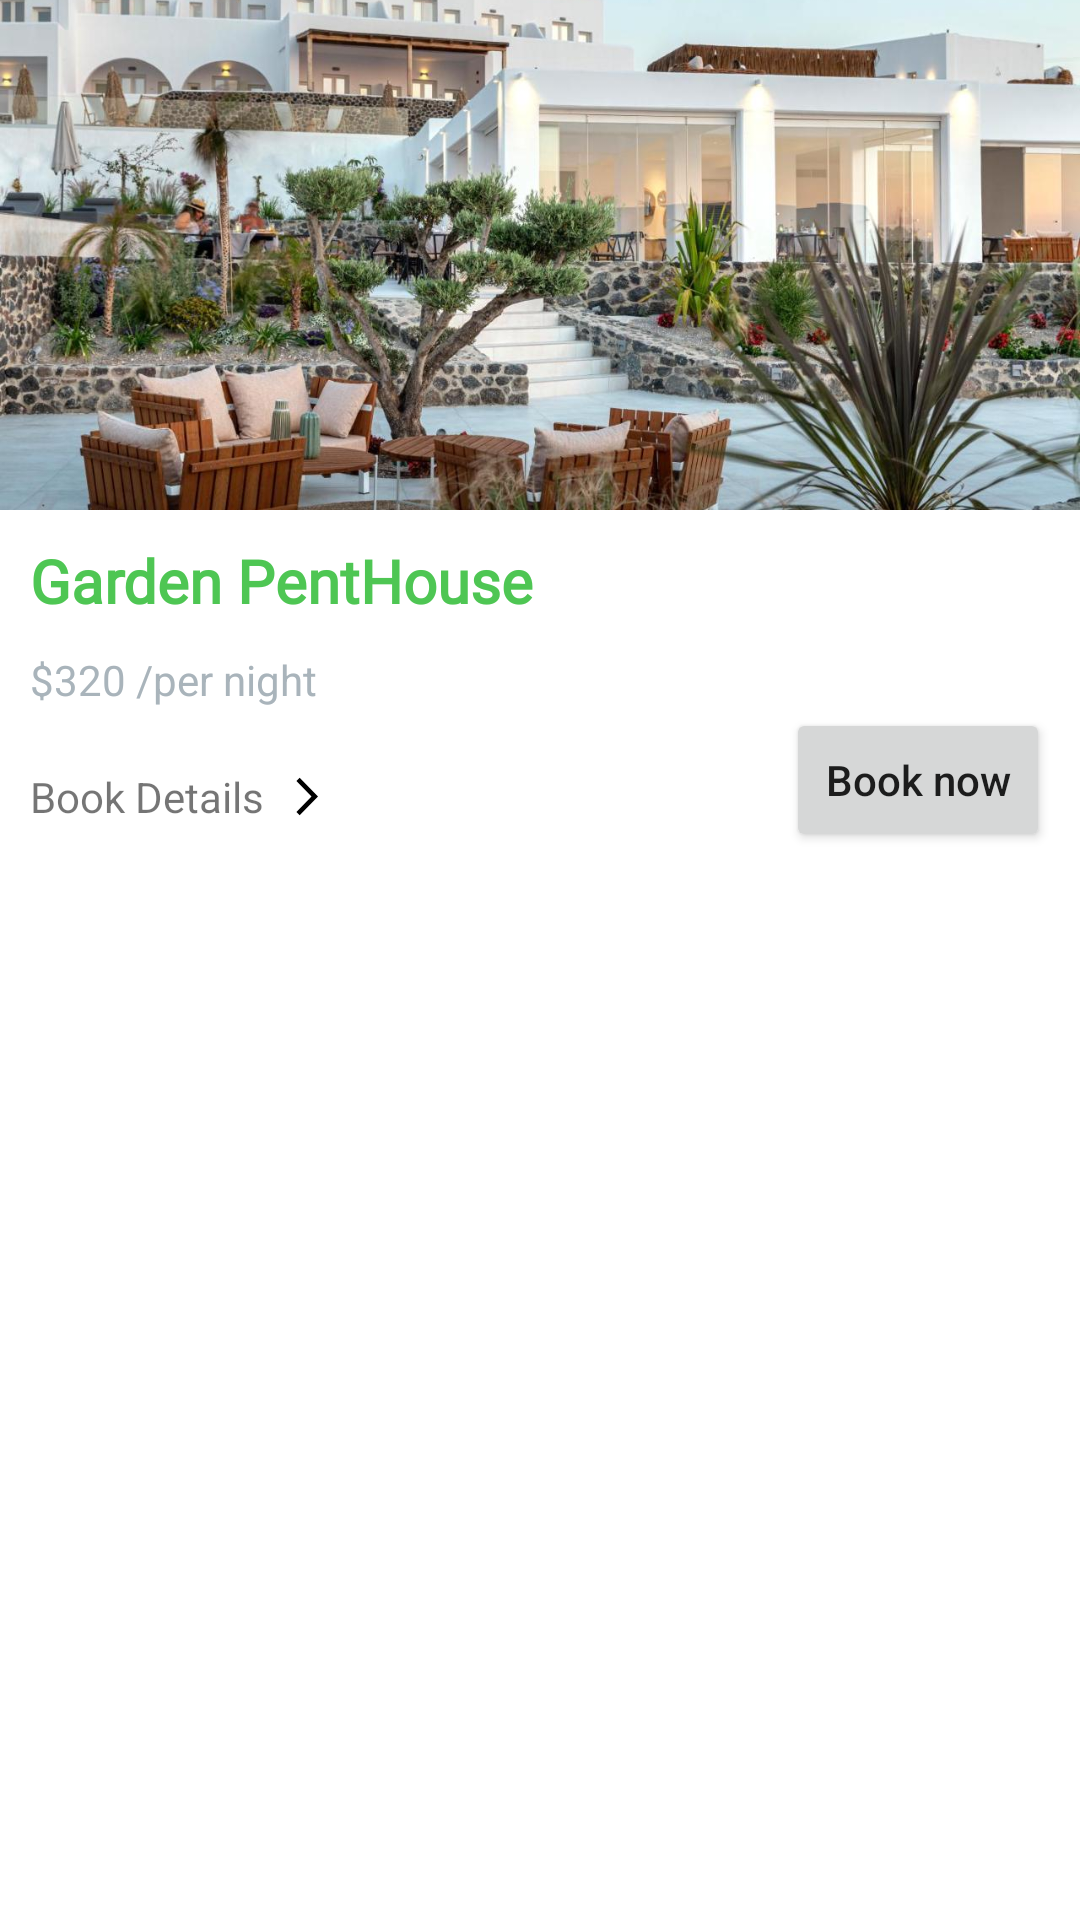

Screen size 1080w x 1920h. Icon name, then its center in pixels as (x,y):
arrow forward: (307,796)
